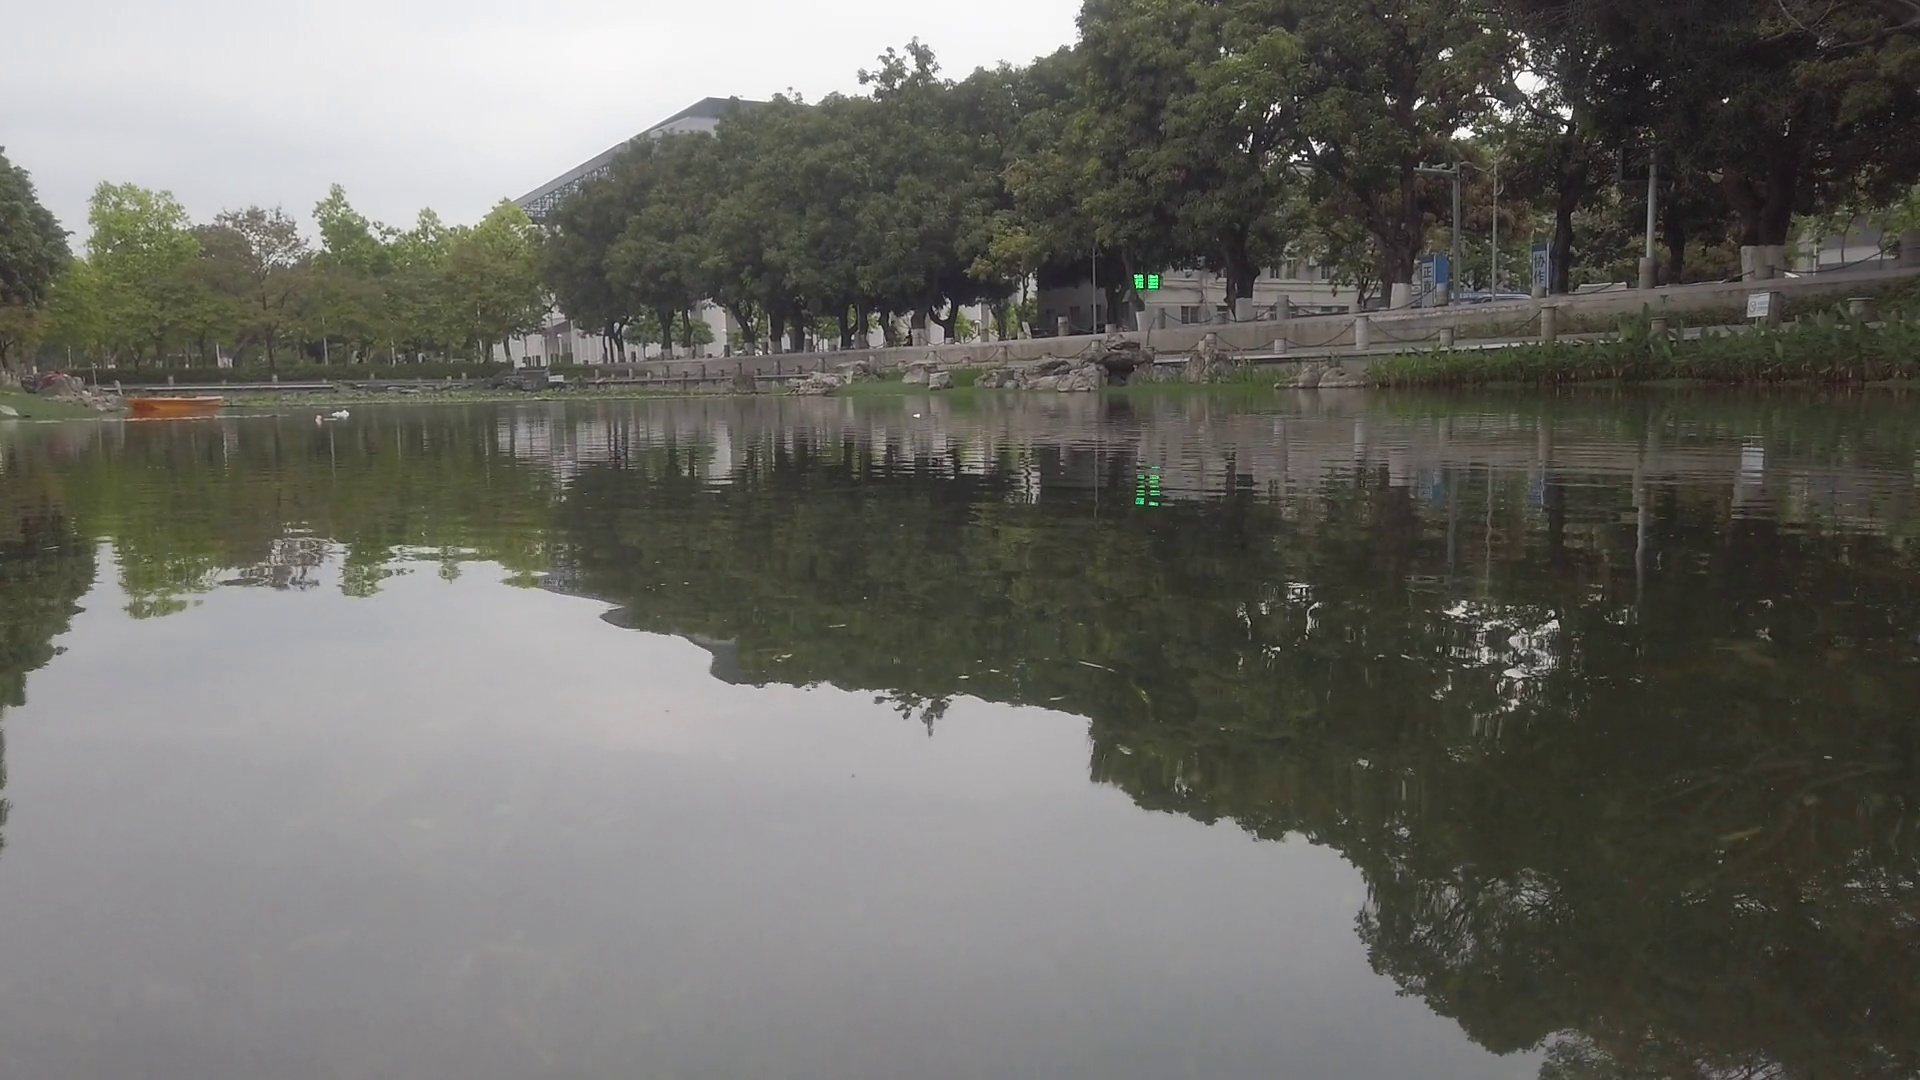paper: (909, 409, 926, 423)
plastic: (334, 410, 351, 417)
